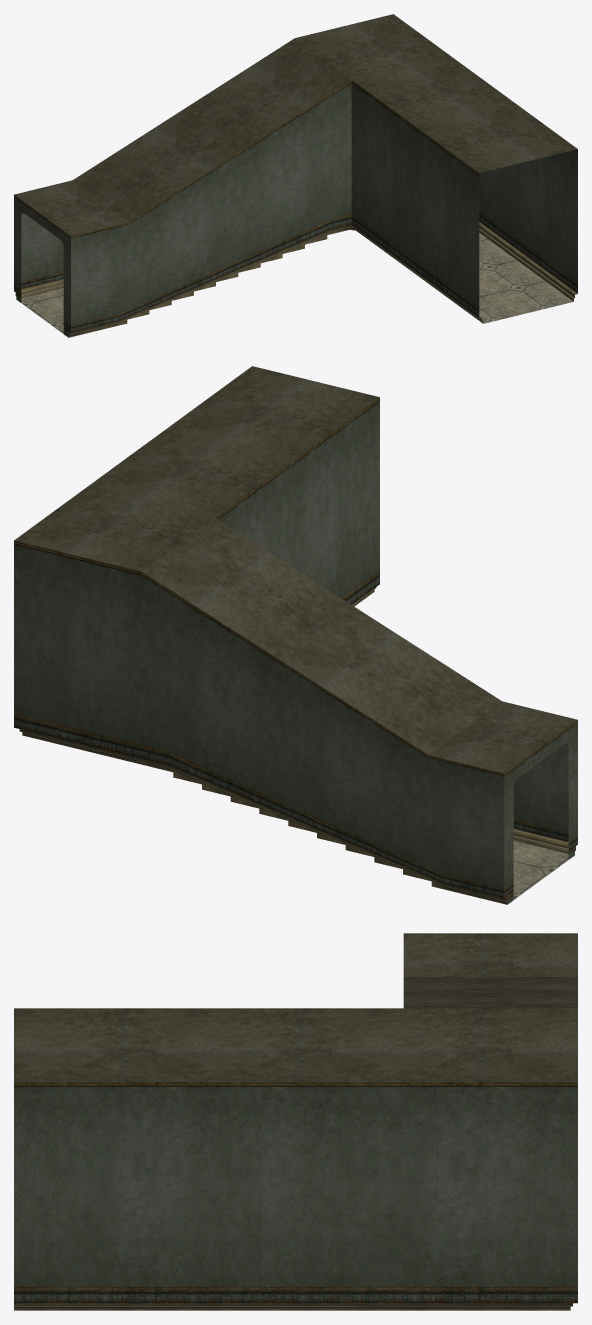
File: mun_corl_guild_theater_s01_r10_performer_entrance_mesh_r10.fbx
3 views of the same model, one above another, from view 1: azimuth 30°, elevation 25°; view 2: azimuth 150°, elevation 25°; view 3: azimuth 270°, elevation 25° (orthographic). The views are drawn at different scales.
Parts seen in each view (by area): view 1: mesh_node; view 2: mesh_node; view 3: mesh_node.
Boxes of the visible parts, x1=… form: mesh_node: x1=14, y1=14, x2=577, y2=337; mesh_node: x1=14, y1=366, x2=577, y2=904; mesh_node: x1=14, y1=933, x2=577, y2=1310.
Size of the model in its own units: 15.37 by 7.4 by 12.94.
